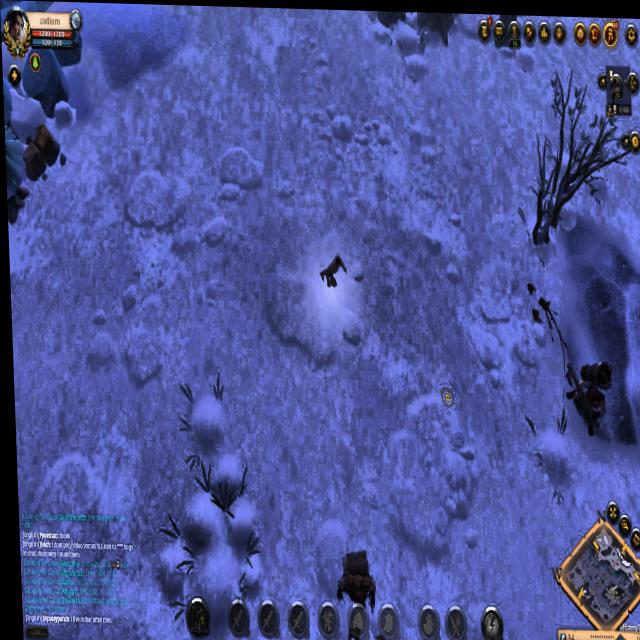limestone: (22, 117, 64, 188)
mob: (560, 348, 613, 439), (330, 542, 379, 609)
